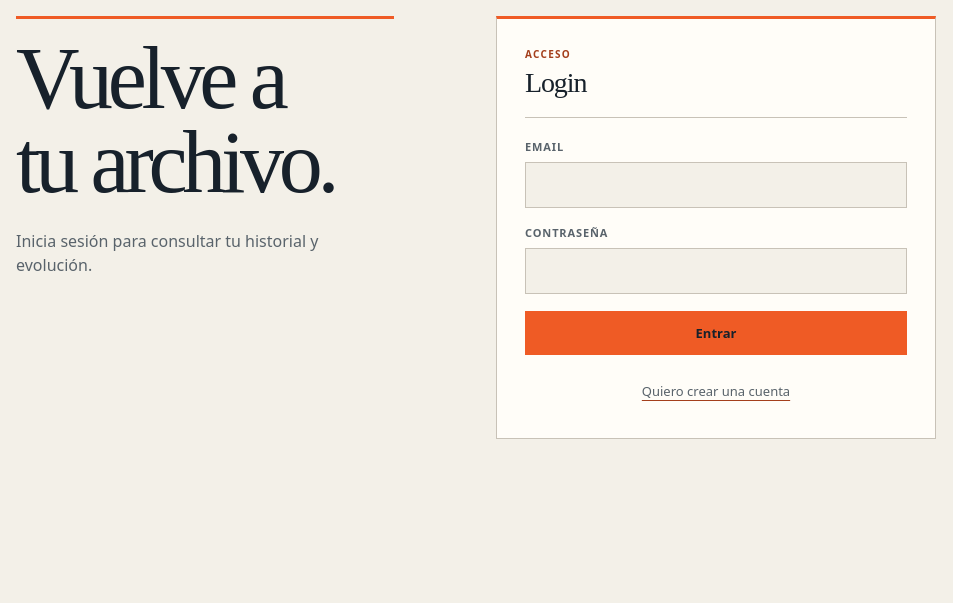
Scenario: AuthPage › shows a safe API error to the user
The width and height of the screenshot is (953, 603).
In the field labelled "Email": (716, 185) [525,162,907,208], type "delfin@example.com"
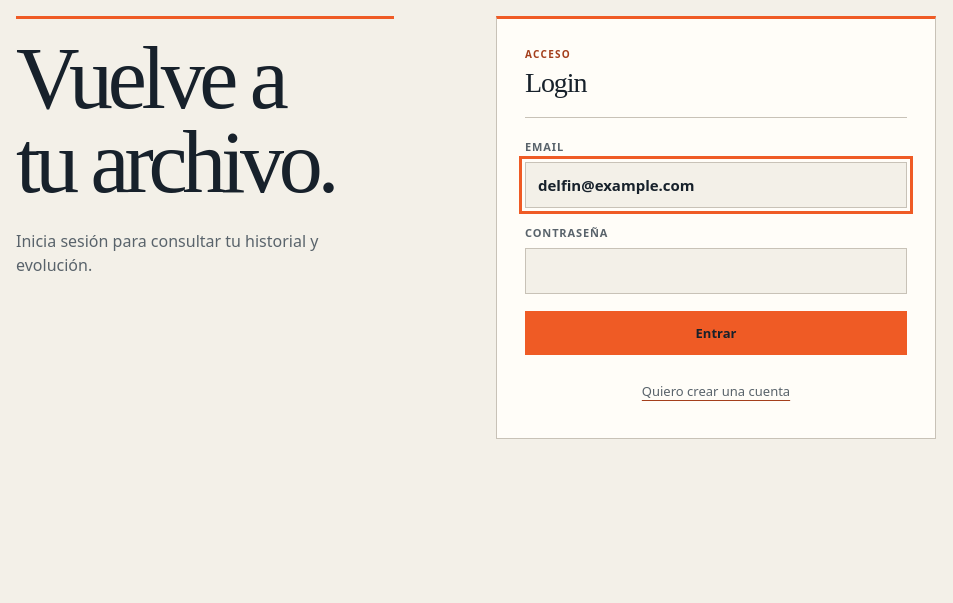
In the password field labelled "Contraseña": (716, 271) [525,248,907,294], type "wrong-password"
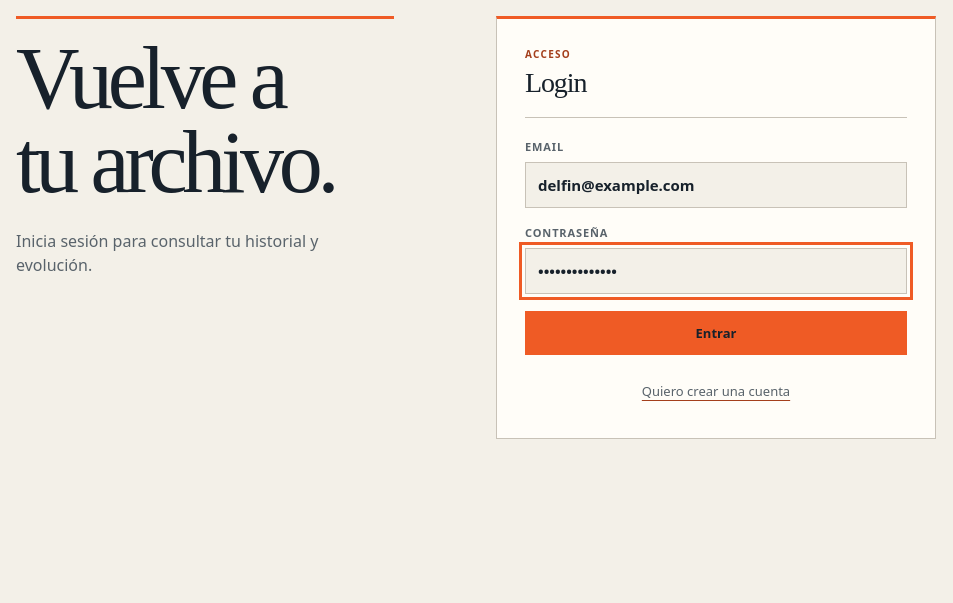
Click the button "Entrar": (716, 333) [525,311,907,355]
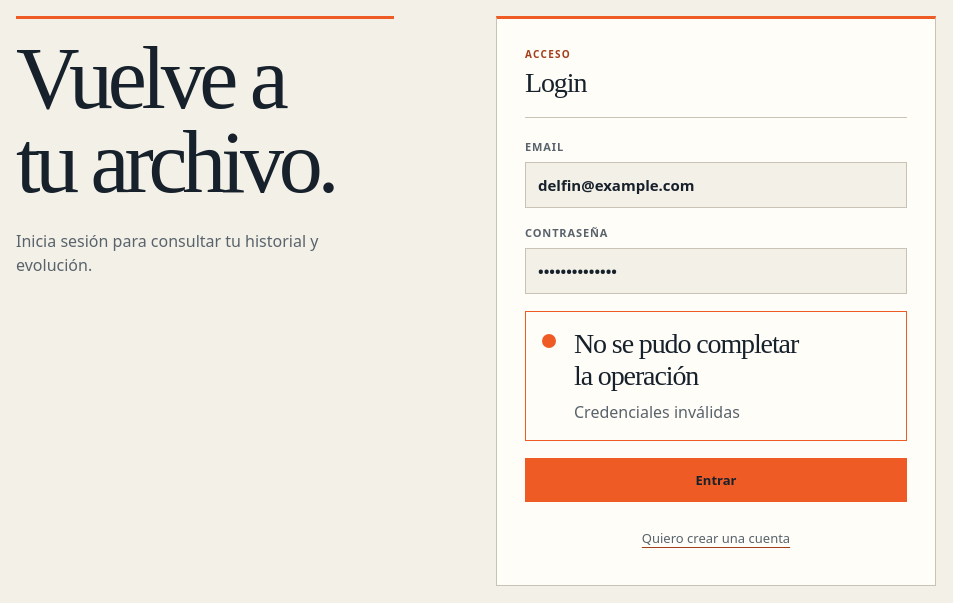
Expected: the message shows "Credenciales inválidas", [574,401,740,423]
